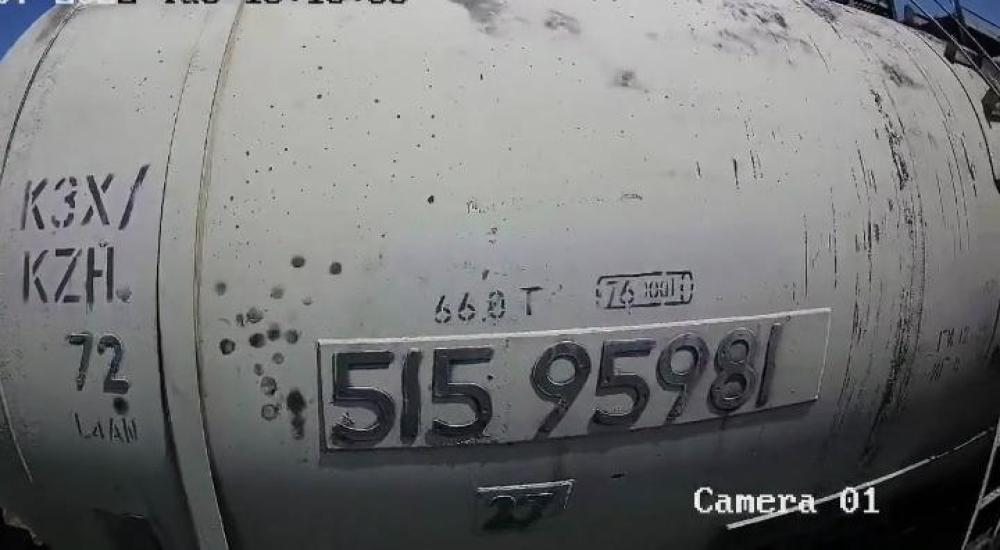Wagon-number: (325, 318, 797, 446)
